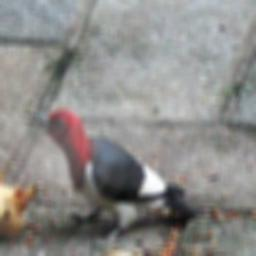Woodpecker: (17, 102, 209, 256)
